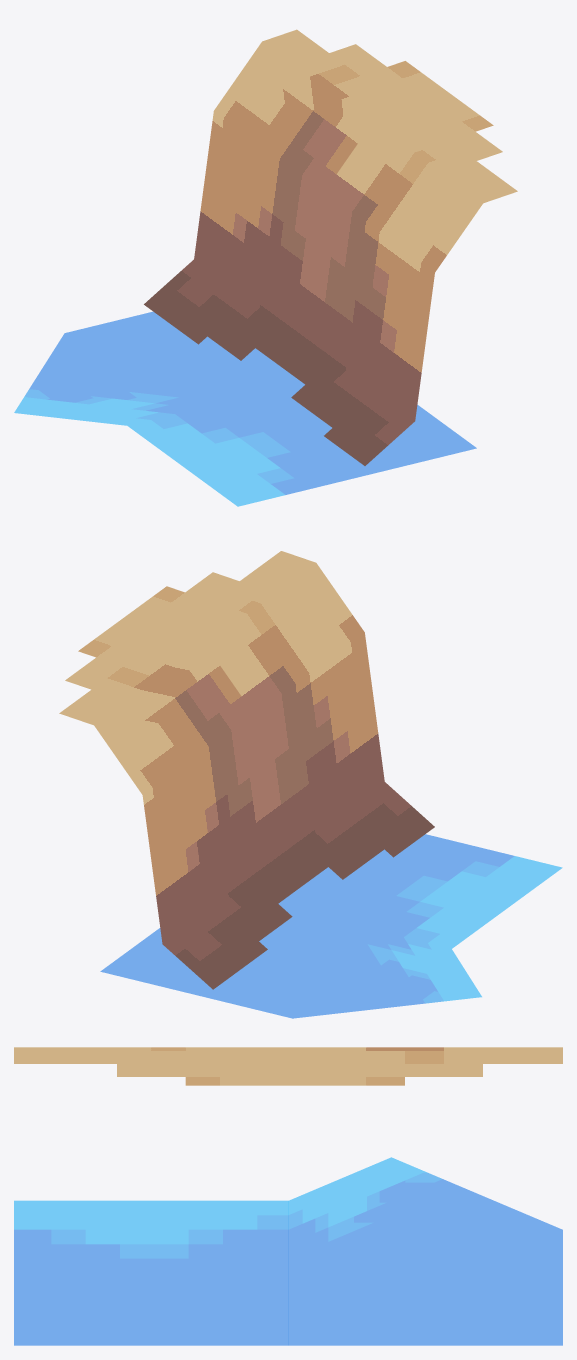
The picture shows the model from 3 angles, top to bottom: view 1: azimuth 30°, elevation 25°; view 2: azimuth 150°, elevation 25°; view 3: azimuth 270°, elevation 25°; orthographic projection. The views are drawn at different scales.
Bounding box in the file's own units: 1.04 × 0.627 × 1.
2 materials, 2 textured.
